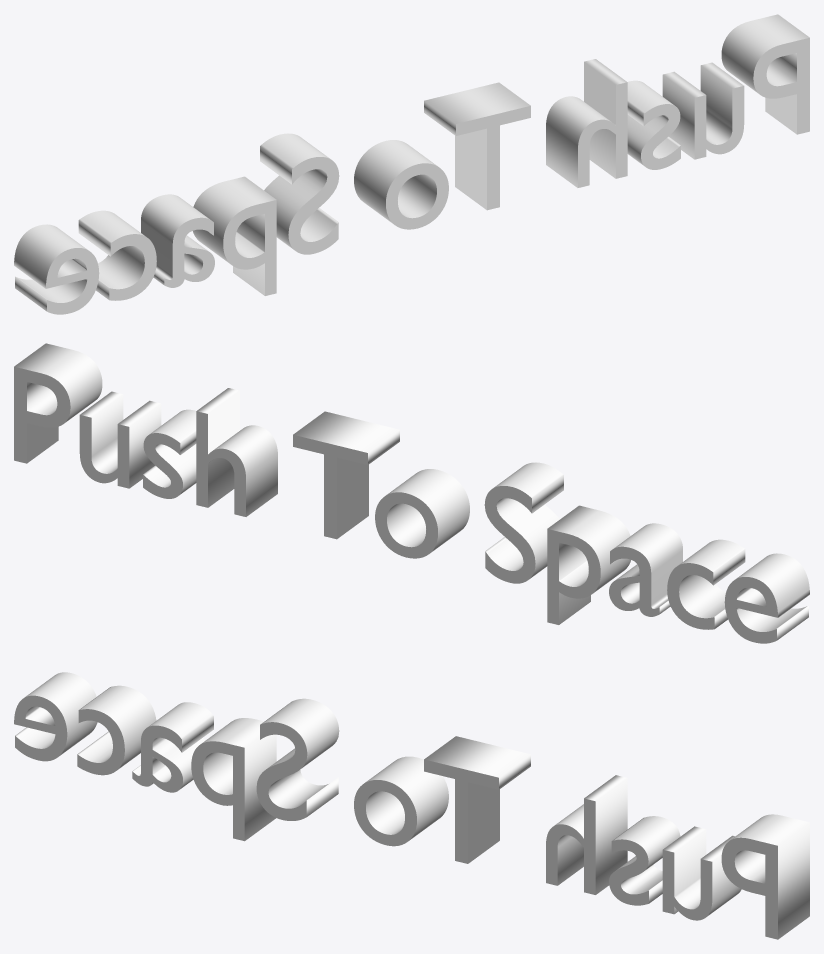
Rendered from PushToSpace.obj.
3 renders of one model, top to bottom at view 1: azimuth 30°, elevation 25°; view 2: azimuth 150°, elevation 25°; view 3: azimuth 330°, elevation 25°, orthographic.
Visible parts, largest first — view 1: テキスト; view 2: テキスト; view 3: テキスト.
Part boxes in pixels (x1,y1,x2,y2): テキスト: [14, 14, 809, 314]; テキスト: [14, 343, 809, 643]; テキスト: [14, 672, 809, 939].
Size of the model in its own units: 17.42 by 2.76 by 1.26.
